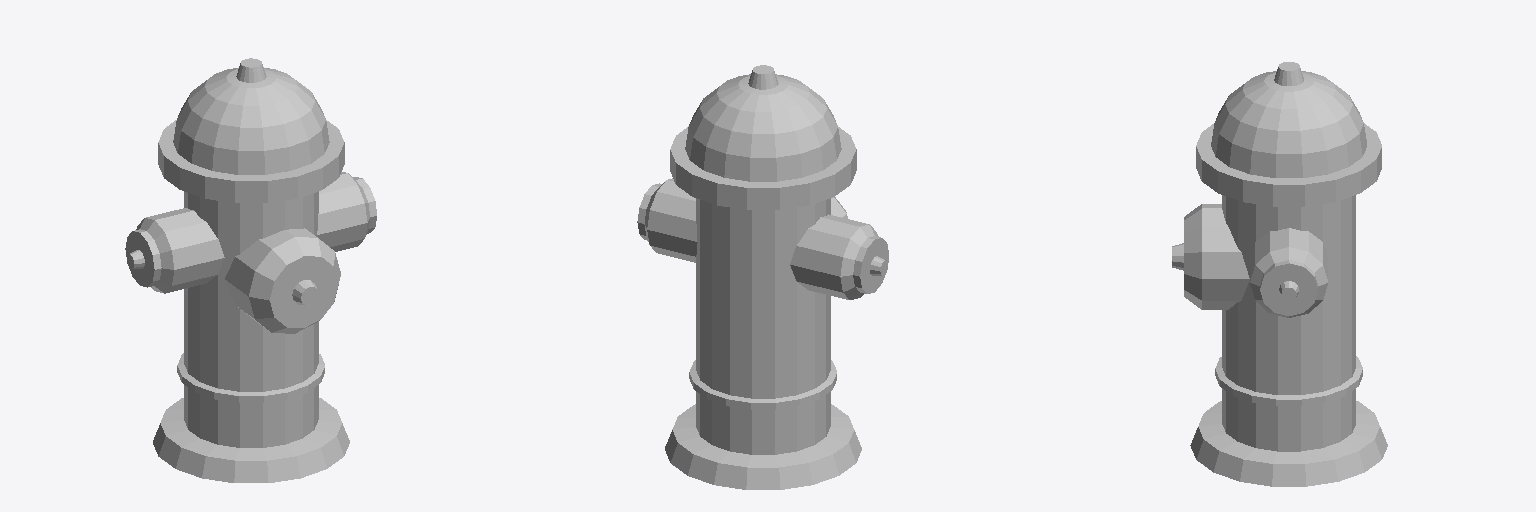
Rendered from FireHydrant.obj.
3 views of the same model, side by side, from view 1: azimuth 30°, elevation 25°; view 2: azimuth 150°, elevation 25°; view 3: azimuth 270°, elevation 25° (orthographic).
Parts seen in each view (by area): view 1: FireHydrant_Cylinder.003; view 2: FireHydrant_Cylinder.003; view 3: FireHydrant_Cylinder.003.
Boxes of the visible parts, x1,y1,x2,y2 form: FireHydrant_Cylinder.003: [125, 58, 376, 482]; FireHydrant_Cylinder.003: [637, 65, 888, 489]; FireHydrant_Cylinder.003: [1172, 62, 1387, 486].
Bounding box in the file's own units: 0.5151 × 0.7724 × 0.3992.